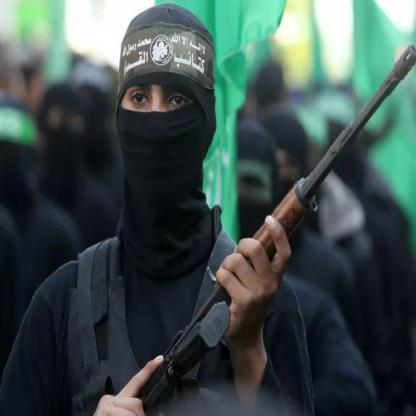rifle: (134, 44, 416, 415)
